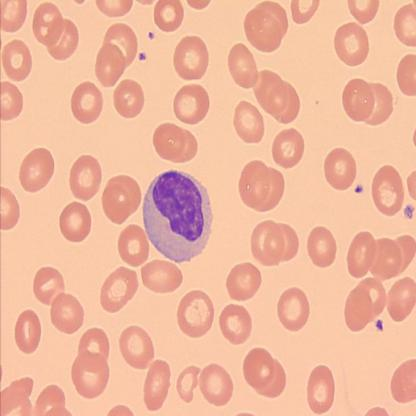Atypical lymphocyte: (143, 169, 213, 261)
